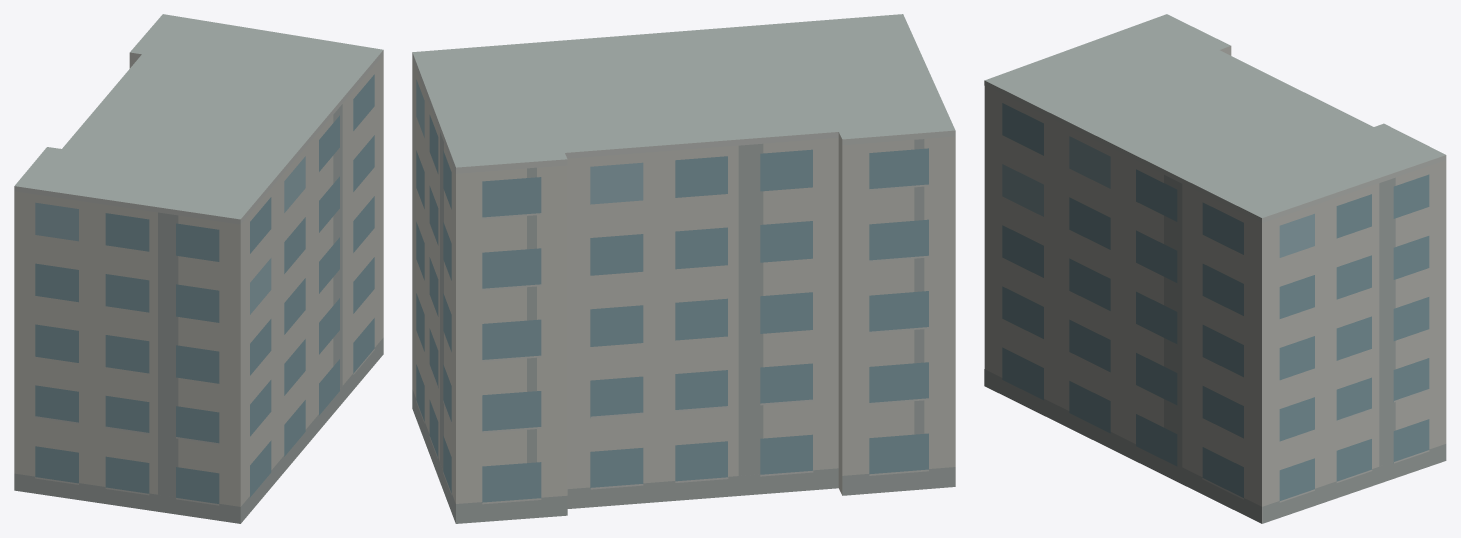
The model's file is survey-upis-32629894.glb.
3 views of the same model, side by side, from view 1: azimuth 30°, elevation 25°; view 2: azimuth 150°, elevation 25°; view 3: azimuth 270°, elevation 25° (orthographic). The views are drawn at different scales.
Visible parts, largest first — view 1: survey-upis-32629894.tmp; view 2: survey-upis-32629894.tmp; view 3: survey-upis-32629894.tmp.
Part boxes in pixels (<box>): survey-upis-32629894.tmp: <box>14,14,383,523</box>; survey-upis-32629894.tmp: <box>412,14,955,523</box>; survey-upis-32629894.tmp: <box>984,14,1446,523</box>.
Size of the model in its own units: 20.49 by 14.3 by 19.59.
